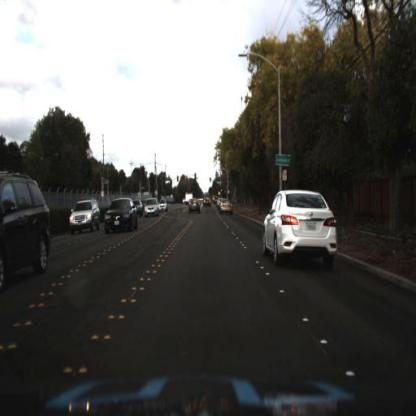car: (260, 183, 340, 273), (2, 168, 53, 291), (64, 191, 105, 243), (101, 194, 139, 236), (141, 195, 161, 222), (187, 195, 204, 218), (219, 199, 236, 217), (201, 195, 215, 211), (158, 200, 170, 215)
truck: (184, 190, 197, 208)
